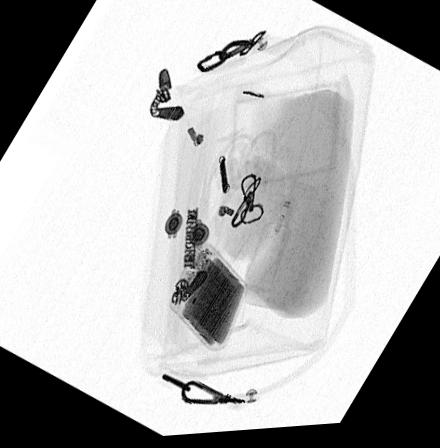Powerbank: (169, 247, 249, 355)
